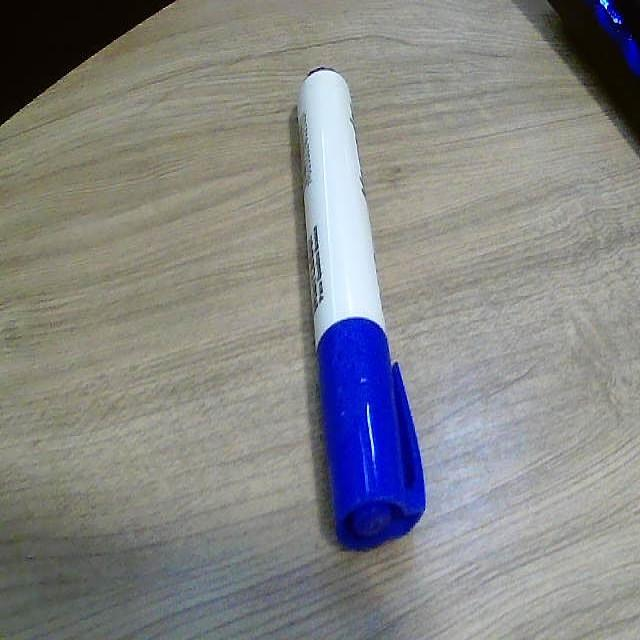caneta: (279, 46, 441, 544)
